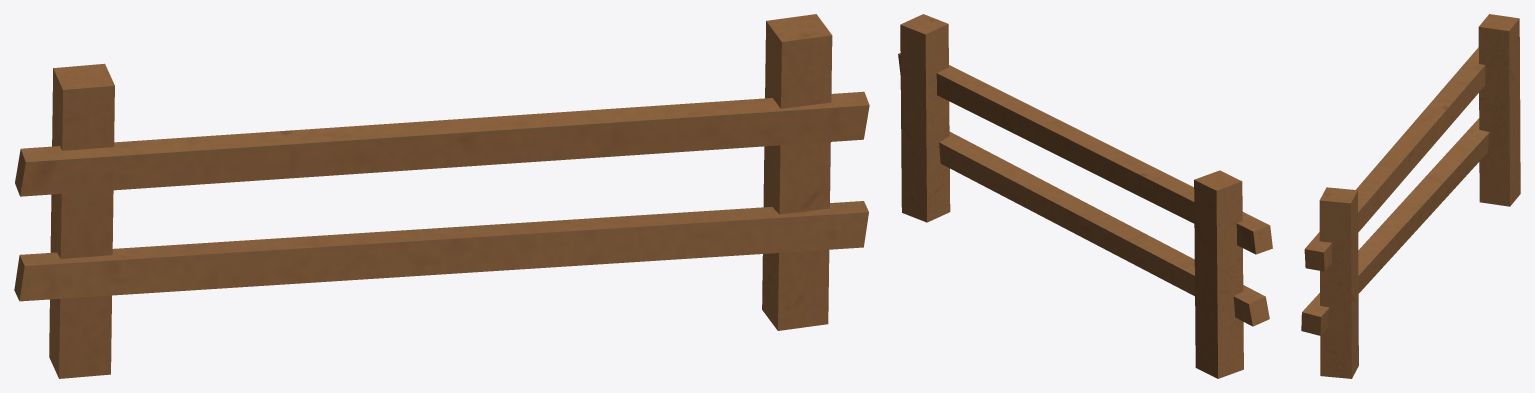
Rendered from part_fence.fbx.
3 views of the same model, side by side, from view 1: azimuth 30°, elevation 25°; view 2: azimuth 150°, elevation 25°; view 3: azimuth 270°, elevation 25° (orthographic). The views are drawn at different scales.
Visible parts, largest first — view 1: Cube.046; view 2: Cube.046; view 3: Cube.046.
Part boxes in pixels (x1=…): Cube.046: x1=14, y1=14, x2=869, y2=378; Cube.046: x1=898, y1=14, x2=1272, y2=378; Cube.046: x1=1301, y1=14, x2=1520, y2=378.
Bounding box in the file's own units: 30.26 × 11.85 × 13.22.
1 material, 1 textured.
